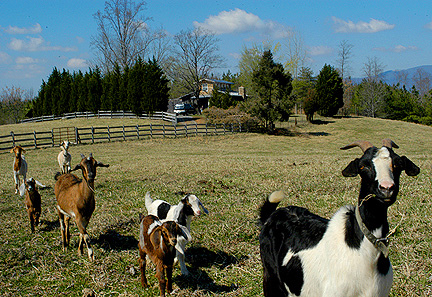goat: (256, 137, 422, 297), (53, 152, 110, 259), (135, 212, 191, 297), (143, 191, 207, 263), (18, 178, 46, 233), (8, 146, 29, 196), (56, 139, 74, 176)
